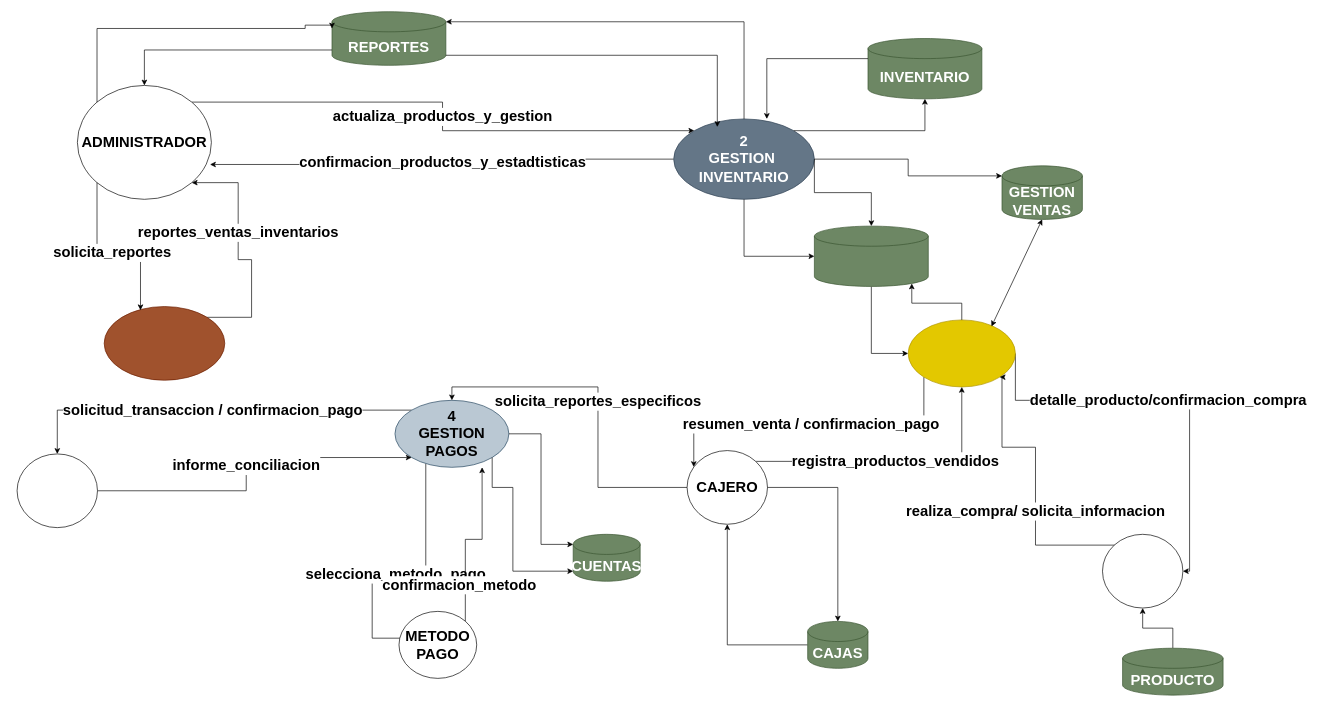
Some shapes in this 1318 by 707 pixel diagram are drawn without their labels. Here are the shapes that lost their labels. From the top down, the centre of each, then its label:
At pixel 871 255: "PRODUCTOS".
At pixel 164 343: "1 GENERAR REPORTES".
At pixel 961 353: "3 GESTION VENTAS".
At pixel 56 490: "SISTEMA FINANCIERO".
At pixel 1142 571: "CLIENTE".
